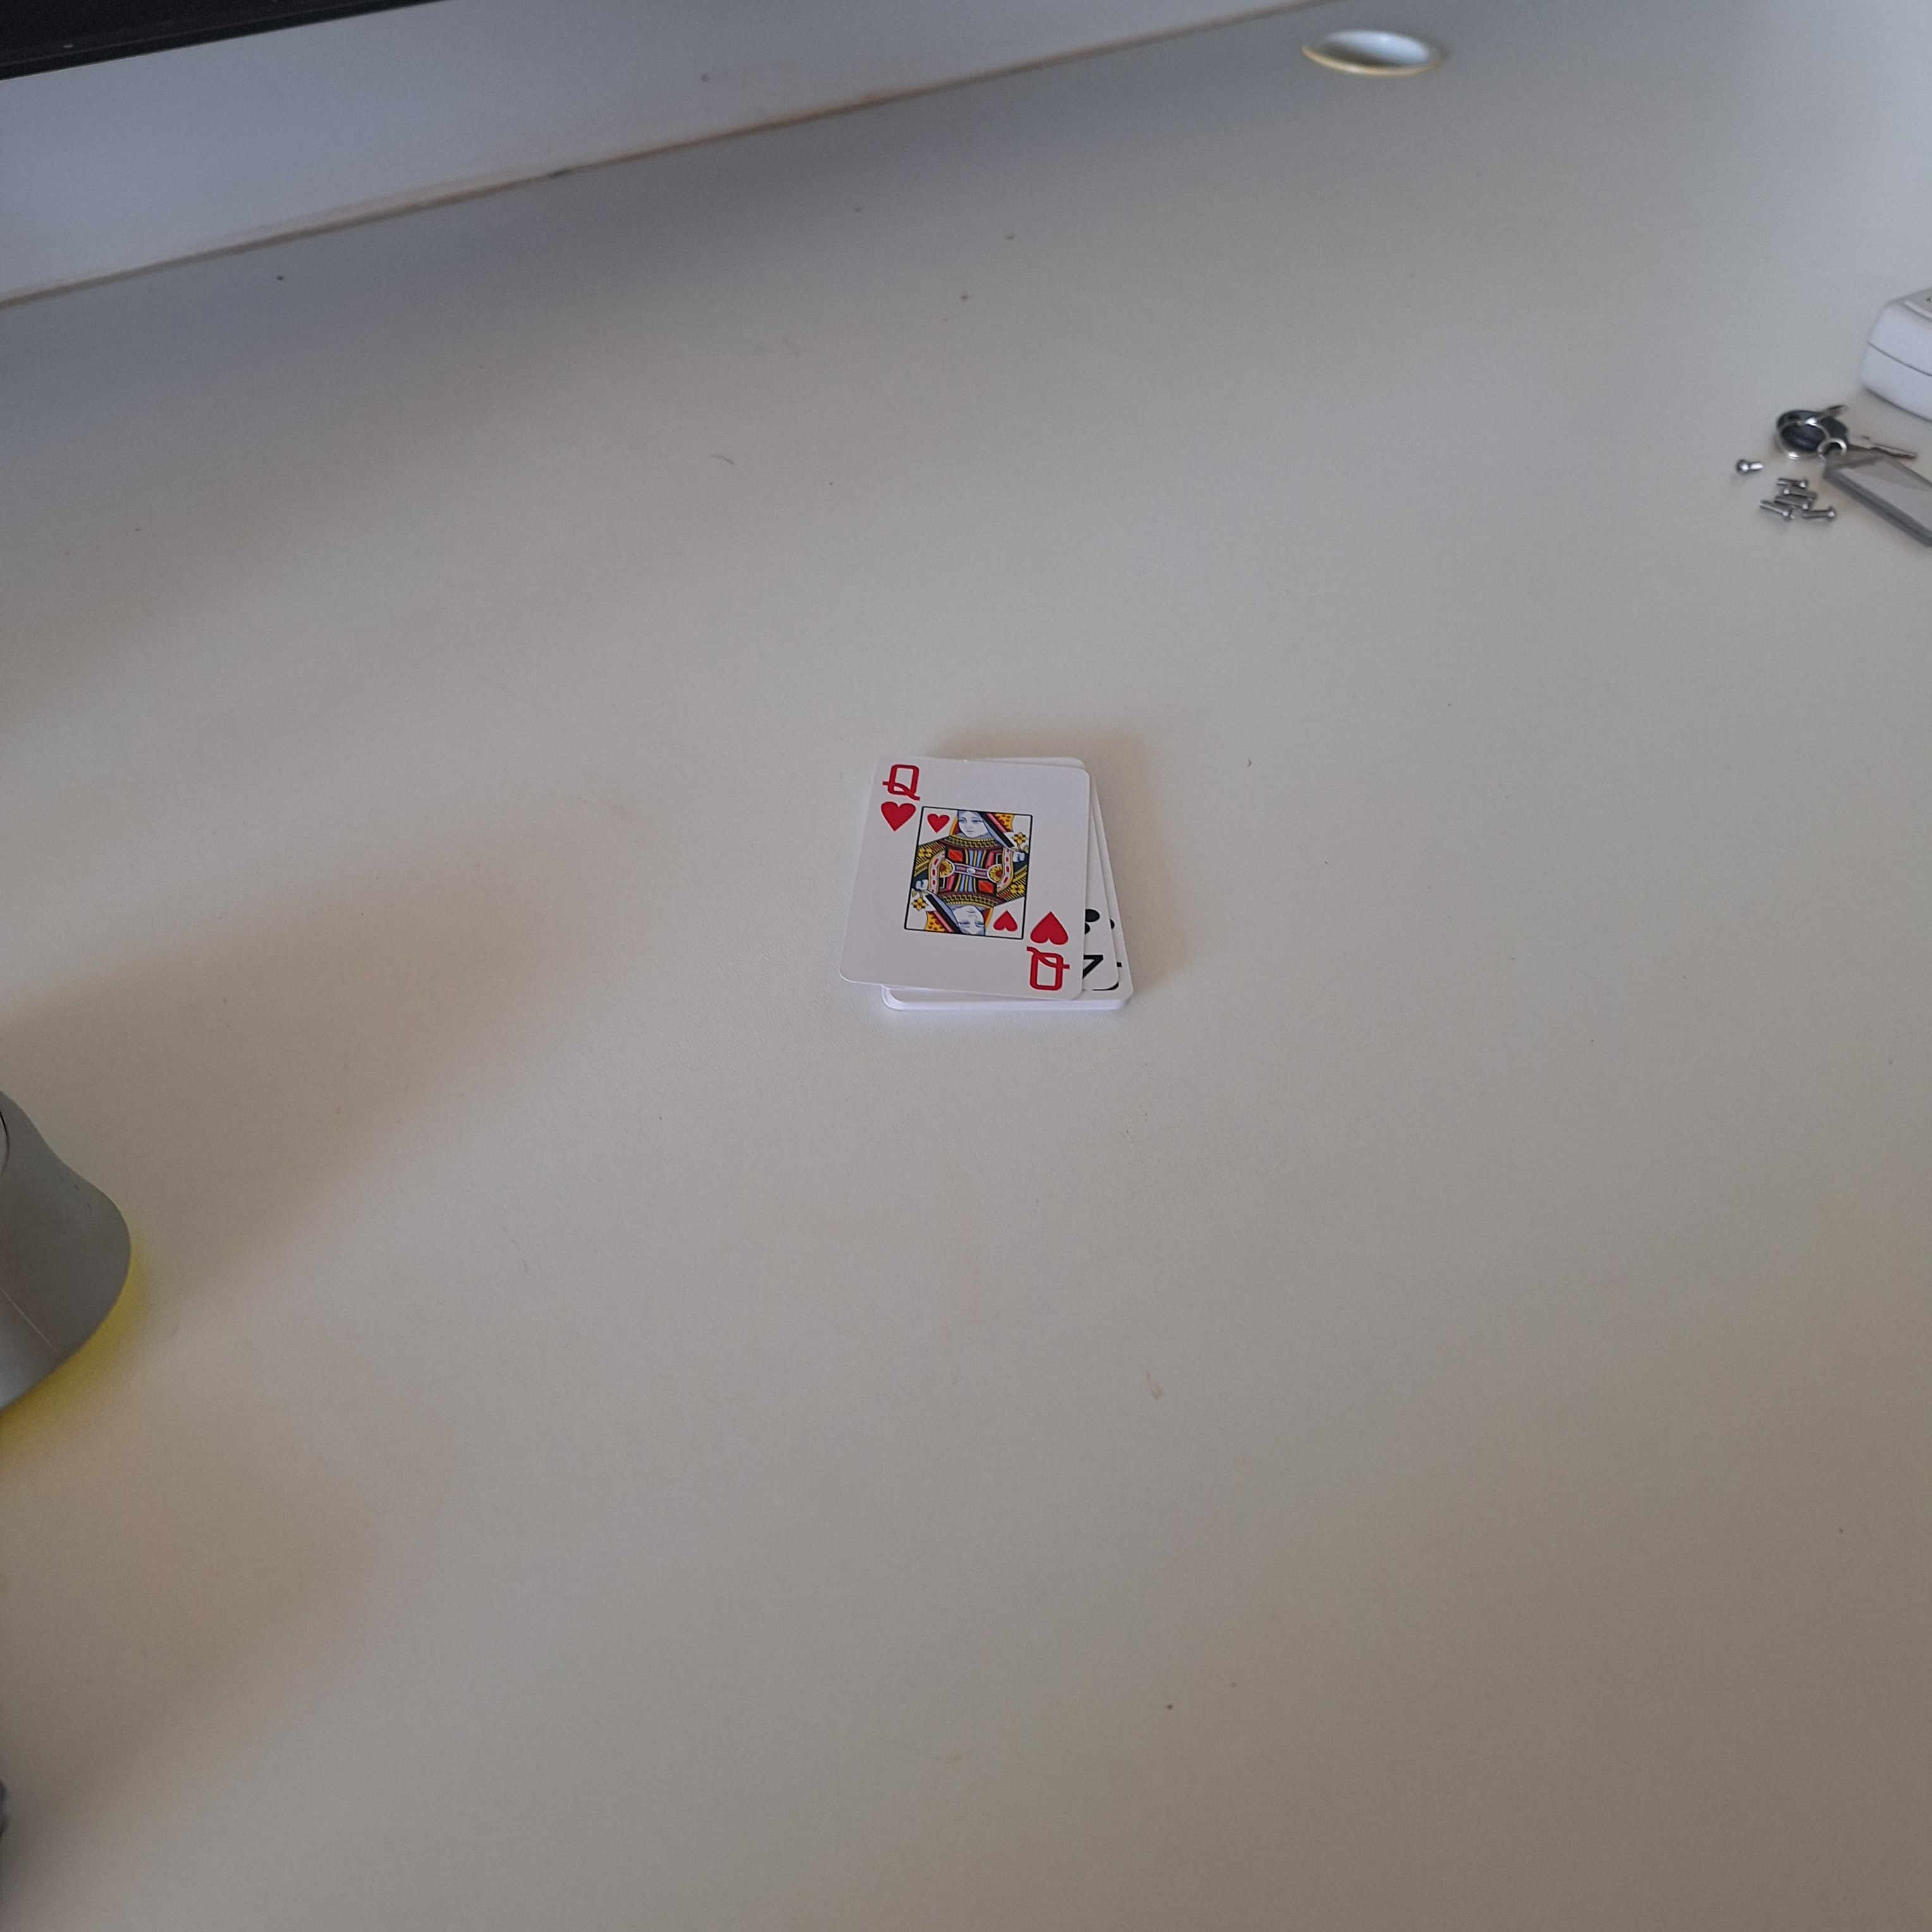QC: (1021, 906, 1077, 996), (874, 757, 924, 835)
